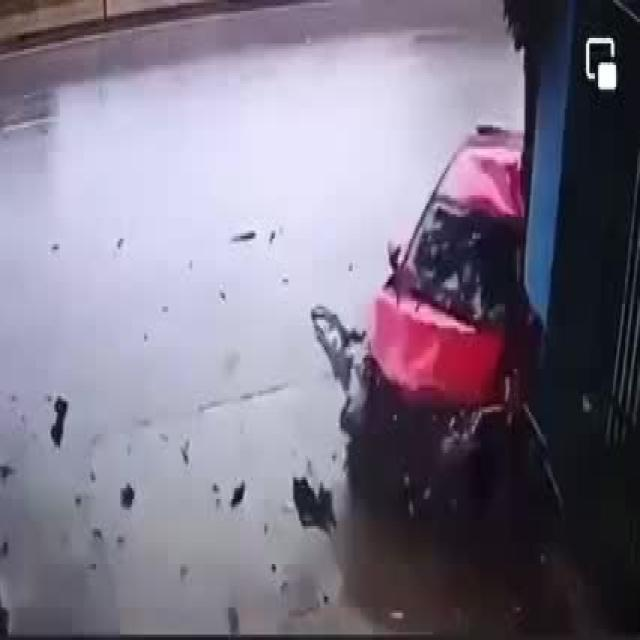single accident: (293, 93, 539, 560)
